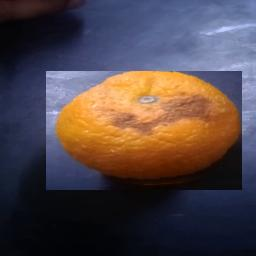Orange Semifresh: (46, 71, 242, 190)
